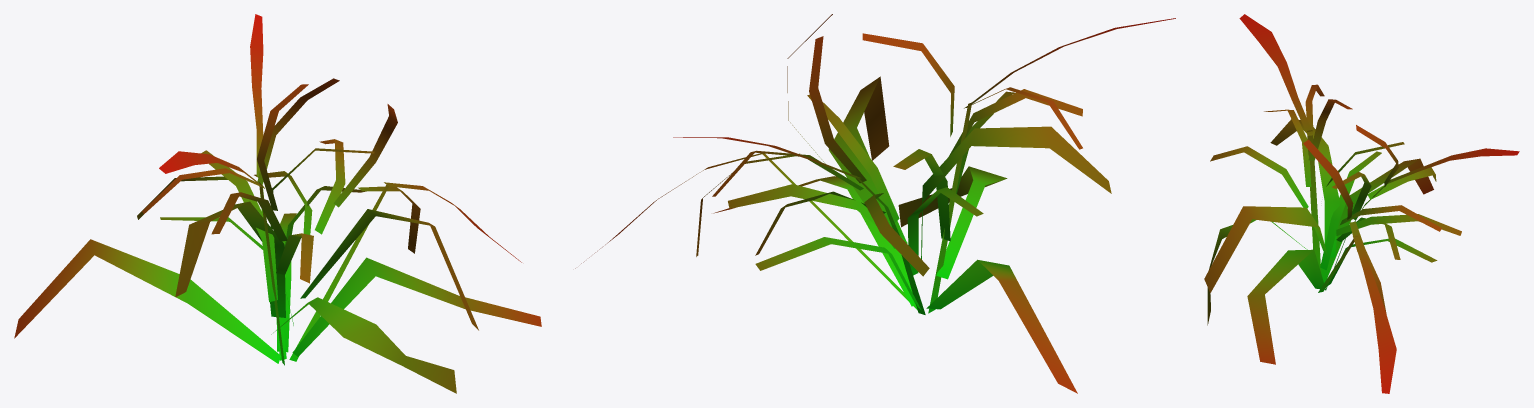
Rendered from Great Brome_LOD4_Var3_tjugaikia.fbx.
3 views of the same model, side by side, from view 1: azimuth 30°, elevation 25°; view 2: azimuth 150°, elevation 25°; view 3: azimuth 270°, elevation 25° (orthographic). The views are drawn at different scales.
Parts seen in each view (by area): view 1: _af6f_Var3_LOD4; view 2: _af6f_Var3_LOD4; view 3: _af6f_Var3_LOD4.
Part boxes in pixels (<box>): _af6f_Var3_LOD4: <box>14,14,541,393</box>; _af6f_Var3_LOD4: <box>575,14,1175,393</box>; _af6f_Var3_LOD4: <box>1204,14,1519,393</box>.
Size of the model in its own units: 55.73 by 30.26 by 41.1.
